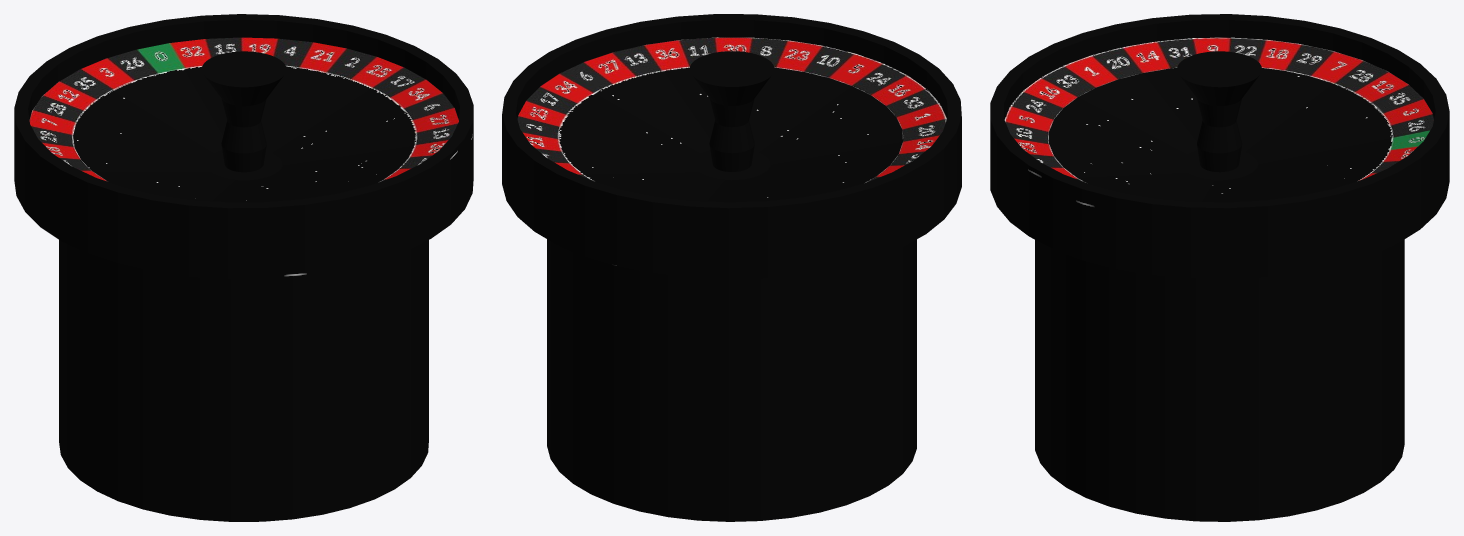
The model's file is Roleta_Cor (1).fbx.
3 views of the same model, side by side, from view 1: azimuth 30°, elevation 25°; view 2: azimuth 150°, elevation 25°; view 3: azimuth 270°, elevation 25° (orthographic).
Visible parts, largest first — view 1: Roleta, Rodinha; view 2: Roleta, Rodinha; view 3: Roleta, Rodinha.
Part boxes in pixels (x1=…): Roleta: x1=14, y1=14, x2=473, y2=521; Rodinha: x1=29, y1=37, x2=458, y2=202; Roleta: x1=502, y1=14, x2=961, y2=521; Rodinha: x1=517, y1=37, x2=946, y2=202; Roleta: x1=990, y1=14, x2=1449, y2=521; Rodinha: x1=1004, y1=37, x2=1433, y2=202.
Size of the model in its own units: 432 by 388 by 432.
